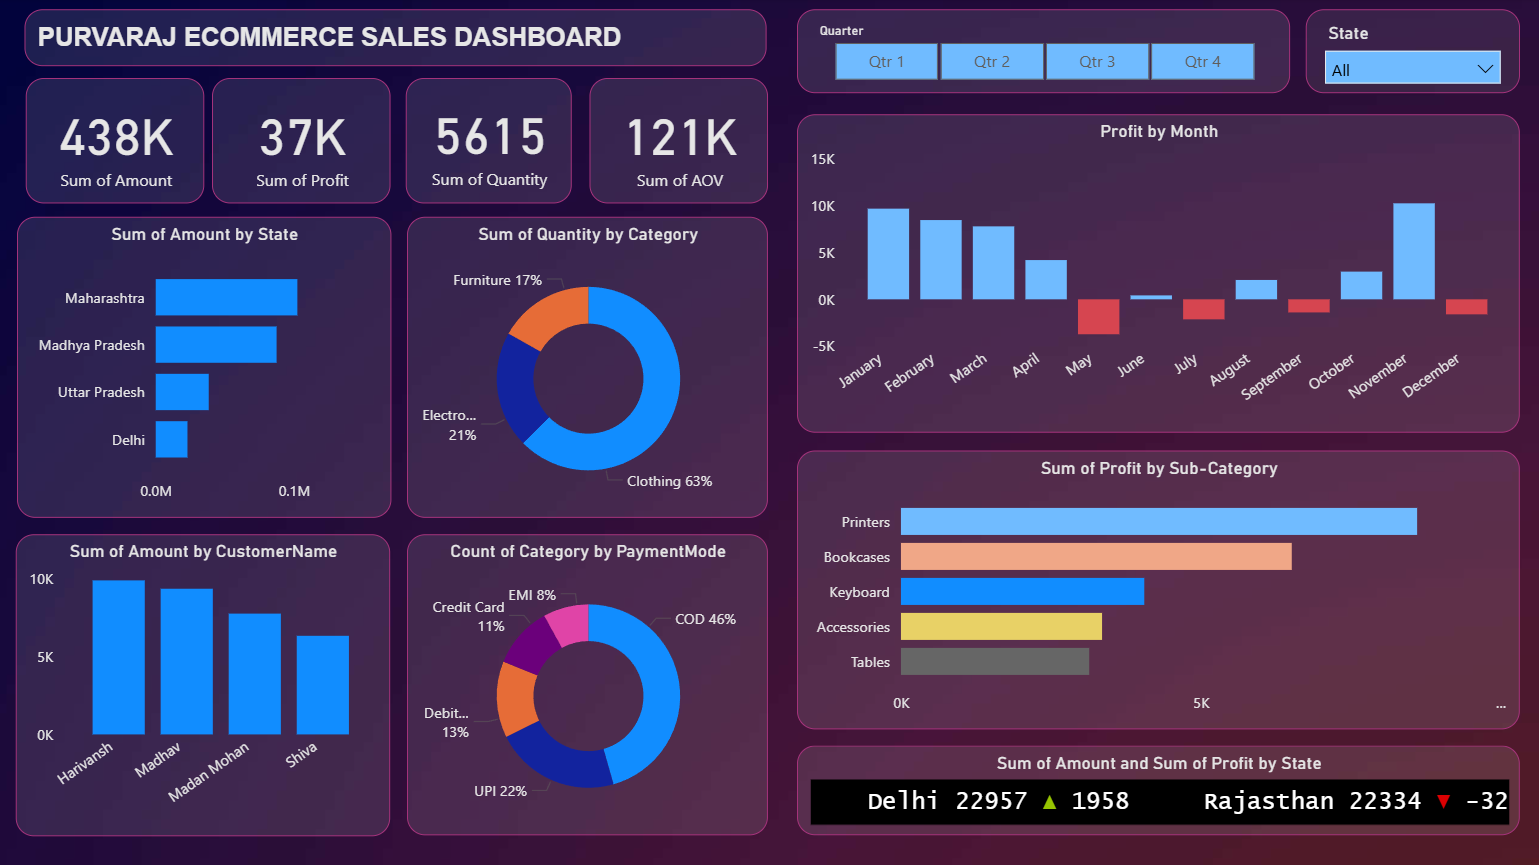

Layout of this report page (visuals, bound fields, positions):
{"tool":"powerbi","page":{"name":"Page 1","canvas":[1280,720],"ordinal":0},"visuals":[{"type":"columnChart","title":"Profit by Month","fields":{"Y":["Sum(Details.Profit)"],"Category":["Orders.Order Date.Variation.Date Hierarchy.Month"]},"box":[663.3,96.5,599.4,264.1],"z":0},{"type":"barChart","fields":{"Category":["Details.Sub-Category"],"Y":["Sum(Details.Profit)"]},"box":[663.3,375.1,599.4,231.6],"z":1000},{"type":"donutChart","fields":{"Category":["Details.Category"],"Y":["Sum(Details.Quantity)"]},"box":[340.3,181.1,299.1,249.7],"z":2000},{"type":"donutChart","fields":{"Category":["Details.PaymentMode"],"Y":["CountNonNull(Details.Category)"]},"box":[340.1,445,299.1,249.6],"z":3000},{"type":"card","fields":{"Values":["Sum(Details.Amount)"]},"box":[23.3,65.9,148.2,104.3],"z":4000},{"type":"card","fields":{"Values":["Sum(Details.Profit)"]},"box":[178.4,65.9,148.2,104.3],"z":5000},{"type":"card","fields":{"Values":["Sum(Details.Quantity)"]},"box":[338.9,66.3,137.5,103.7],"z":6000},{"type":"card","fields":{"Values":["Sum(Details.AOV)"]},"box":[491.3,65.9,148.2,104.3],"z":7000},{"type":"barChart","fields":{"Y":["Sum(Details.Amount)"],"Category":["Orders.State"]},"box":[16.5,181.1,310.1,249.7],"z":8000},{"type":"columnChart","fields":{"Category":["Orders.CustomerName"],"Y":["Sum(Details.Amount)"]},"box":[16,445,310,250],"z":9000},{"type":"textbox","box":[22.9,9.6,615.1,47],"z":10000},{"type":"slicer","fields":{"Values":["Orders.Order Date.Variation.Date Hierarchy.Quarter"]},"box":[663.3,9.6,408.8,69.9],"z":11000},{"type":"slicer","fields":{"Values":["Orders.State"]},"box":[1085.4,9.6,177.3,69.9],"z":12000},{"type":"ScrollingTextVisual1448795304508","fields":{"Category":["Orders.State"],"Measure Absolute":["Sum(Details.Amount)"],"Measure Deviation":["Sum(Details.Profit)"]},"box":[663.3,619.9,599.4,74.8],"z":13000}]}

Visuals, with their boxes in screenshot pixels (x1, y1, x2, y2), scaled from the page's 1280x720 canvas onto the 1539x865 screenshot:
"Profit by Month" columnChart: [x1=798, y1=116, x2=1518, y2=433]
barChart - Details.Sub-Category x Sum(Details.Profit): [x1=798, y1=451, x2=1518, y2=729]
donutChart - Details.Category x Sum(Details.Quantity): [x1=409, y1=218, x2=769, y2=518]
donutChart - Details.PaymentMode x CountNonNull(Details.Category): [x1=409, y1=535, x2=769, y2=834]
card - Sum(Details.Amount): [x1=28, y1=79, x2=206, y2=204]
card - Sum(Details.Profit): [x1=214, y1=79, x2=393, y2=204]
card - Sum(Details.Quantity): [x1=407, y1=80, x2=573, y2=204]
card - Sum(Details.AOV): [x1=591, y1=79, x2=769, y2=204]
barChart - Sum(Details.Amount) x Orders.State: [x1=20, y1=218, x2=393, y2=518]
columnChart - Orders.CustomerName x Sum(Details.Amount): [x1=19, y1=535, x2=392, y2=835]
textbox: [x1=28, y1=12, x2=767, y2=68]
slicer - Orders.Order Date.Variation.Date Hierarchy.Quarter: [x1=798, y1=12, x2=1289, y2=96]
slicer - Orders.State: [x1=1305, y1=12, x2=1518, y2=96]
ScrollingTextVisual1448795304508 - Orders.State x Sum(Details.Amount): [x1=798, y1=745, x2=1518, y2=835]
